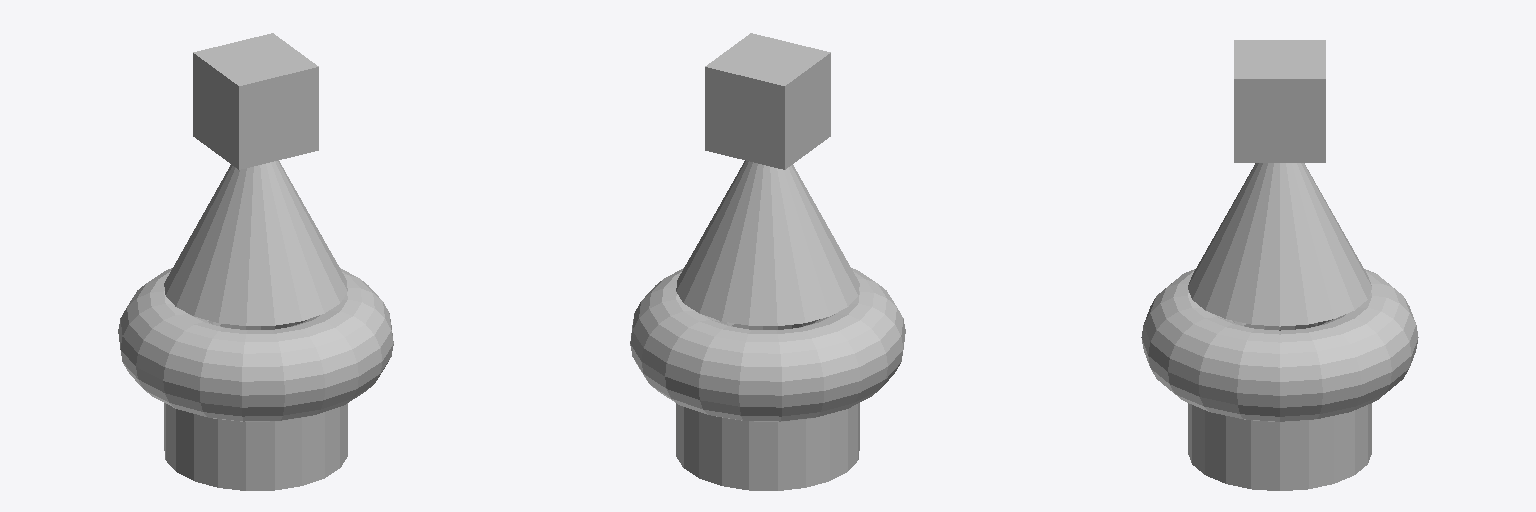
Rendered from testModel.obj.
3 views of the same model, side by side, from view 1: azimuth 30°, elevation 25°; view 2: azimuth 150°, elevation 25°; view 3: azimuth 270°, elevation 25° (orthographic).
Size of the model in its own units: 3 by 4.69 by 3.